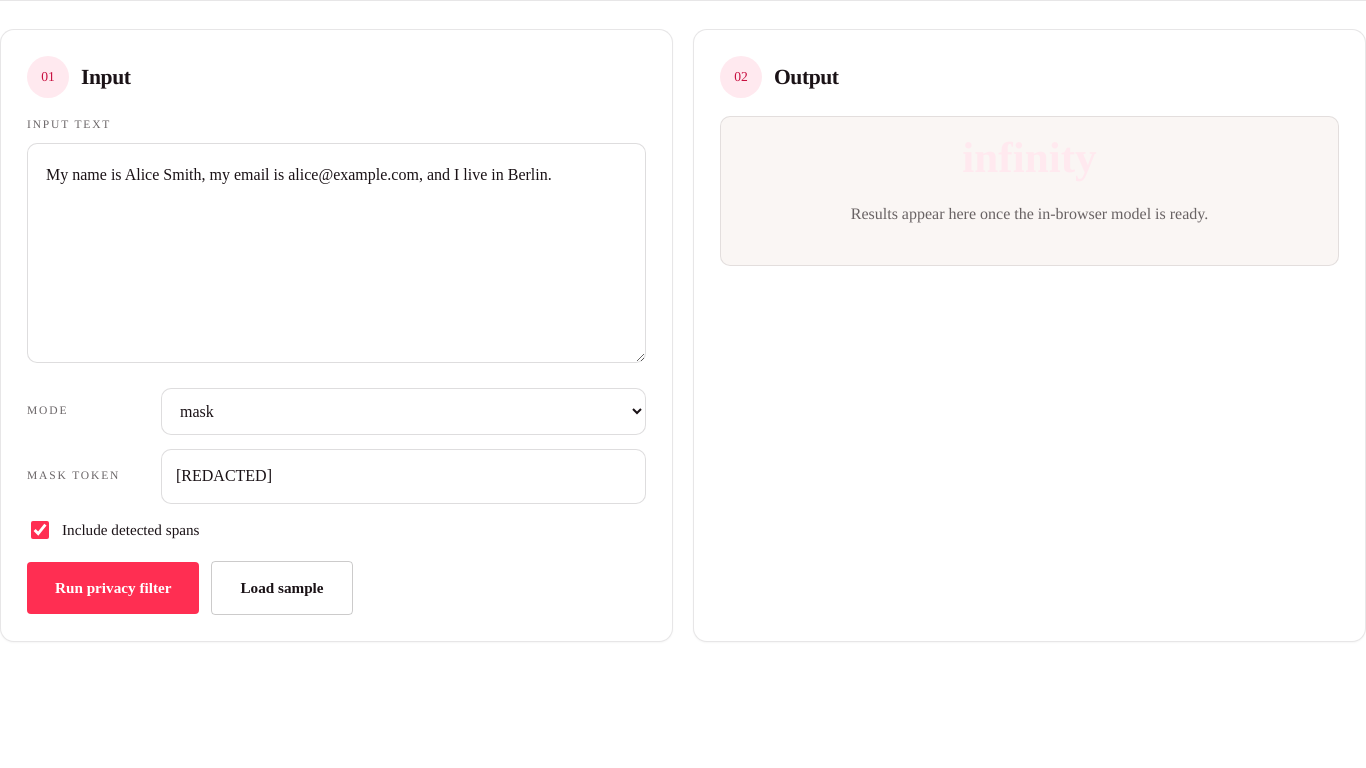
it: FilterSandbox › browser runtime › returns the button to idle after the model is ready and filtering completes
This screenshot has width=1366, height=768.
Click the button "Run privacy filter" at [113, 588], box [27,562,199,614]
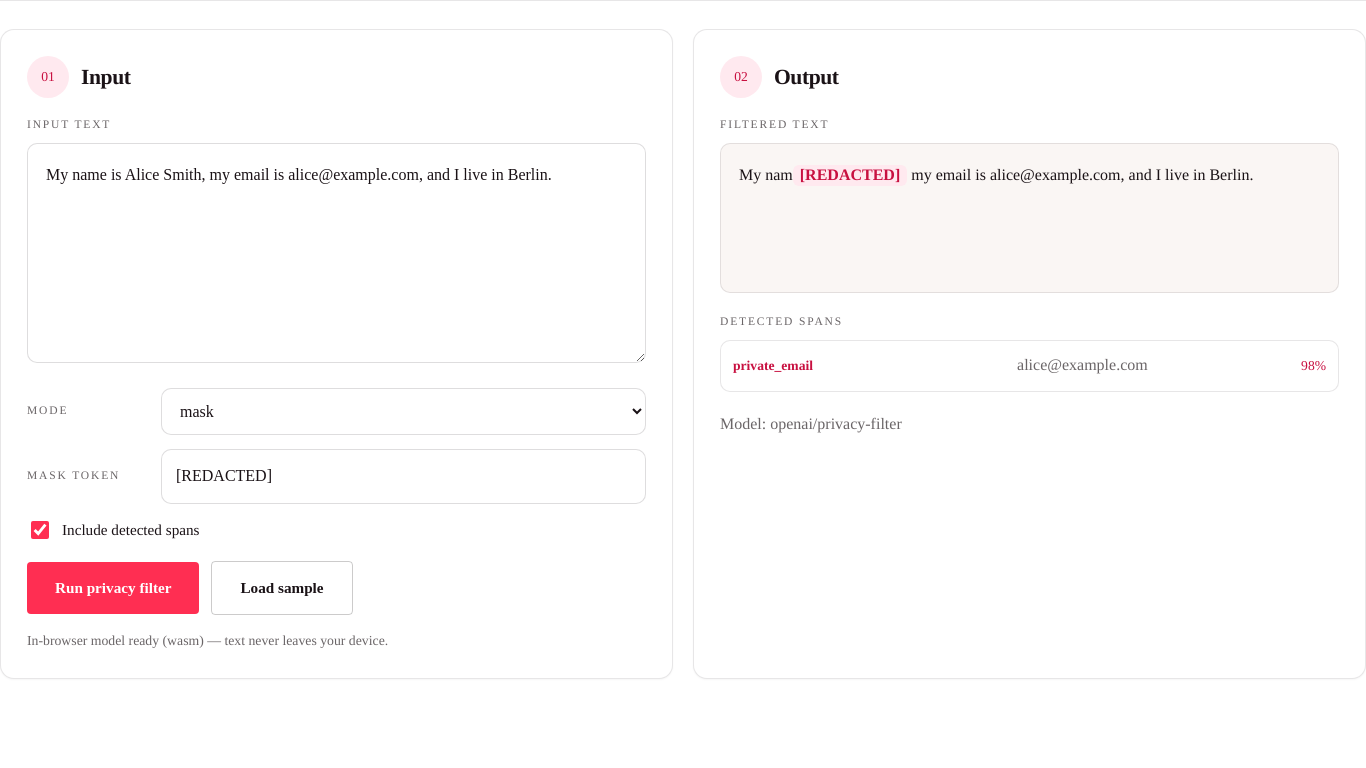
Expected: the text "private_email" is shown, [733,358,813,373]
Expected: the text "In-browser model ready (wasm) — text never leaves your device." is shown, [27,633,388,648]
